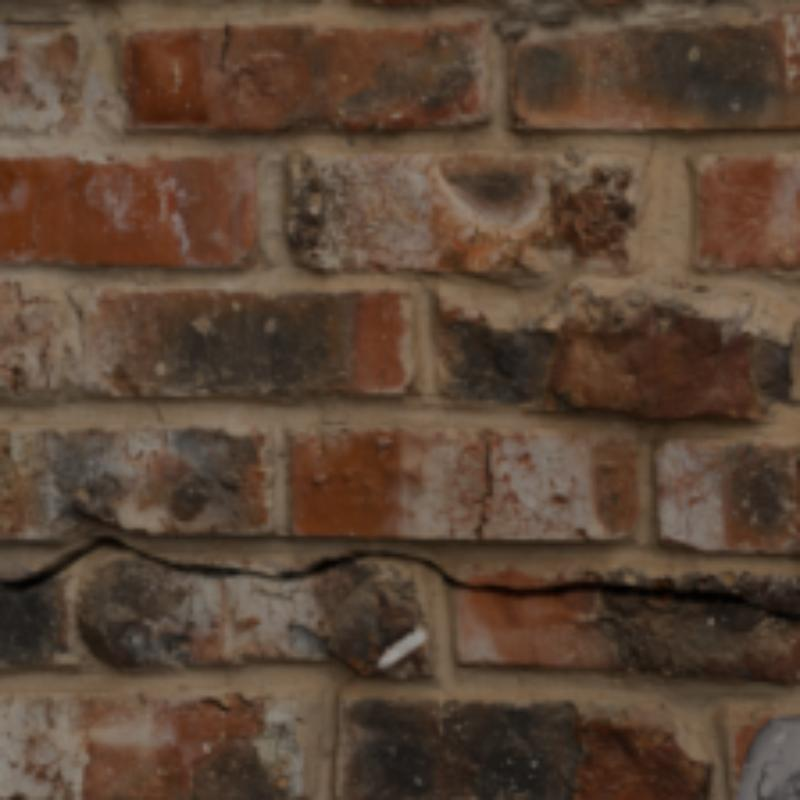pothole: (260, 550, 796, 621), (0, 536, 248, 593), (475, 436, 493, 539), (218, 29, 232, 68)
